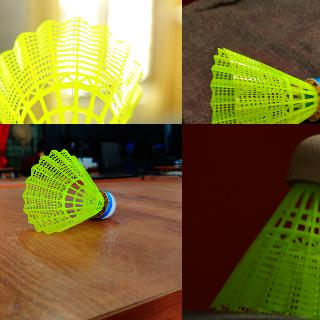shuttlecock: (210, 133, 319, 319), (0, 16, 144, 123), (22, 146, 116, 234), (211, 47, 319, 123)
